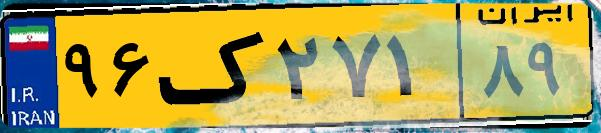1: (385, 28, 445, 110)
2: (270, 28, 330, 110)
6: (110, 28, 158, 98)
7: (330, 28, 385, 110)
8: (475, 38, 525, 113)
9: (57, 26, 110, 100), (525, 38, 570, 115)
ک: (158, 12, 270, 120)
